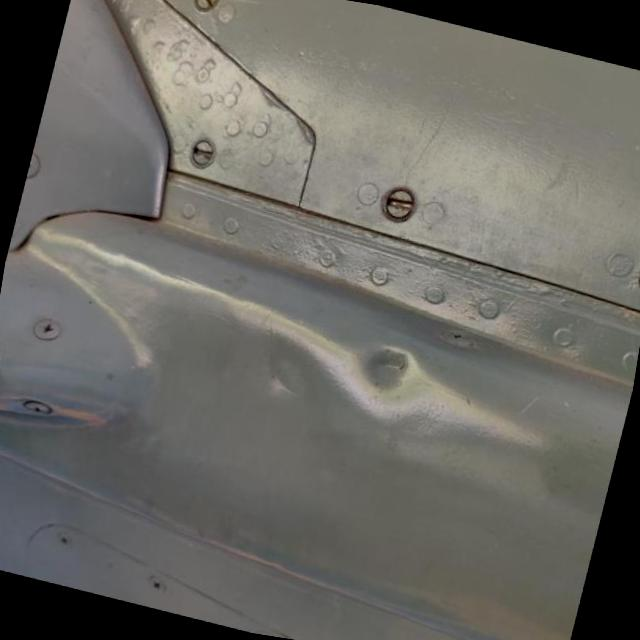dent: (343, 332, 444, 413), (244, 345, 322, 417)
